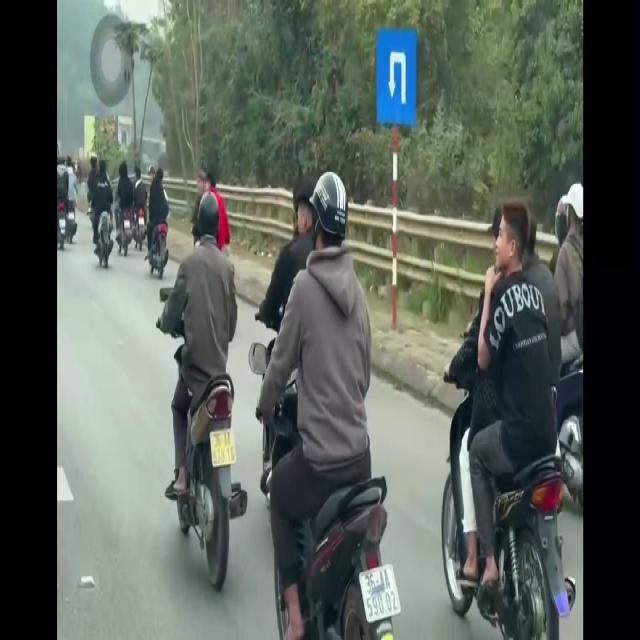helmet: (309, 171, 351, 295), (197, 192, 220, 268)
